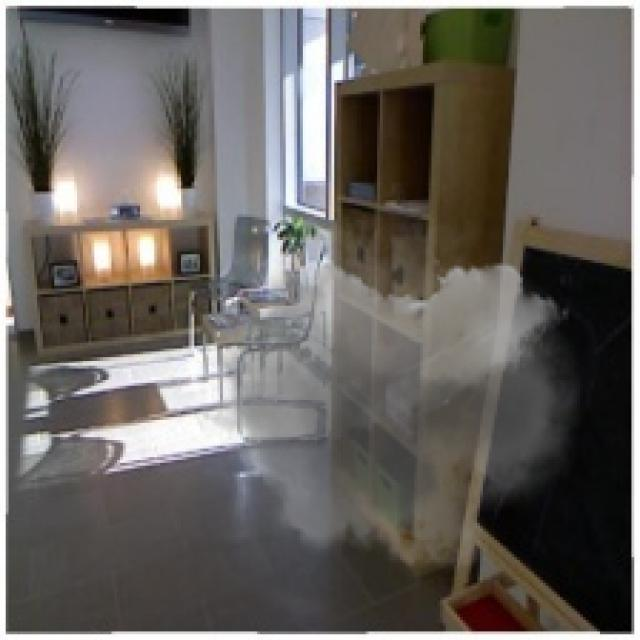Smoke: (188, 180, 583, 589)
